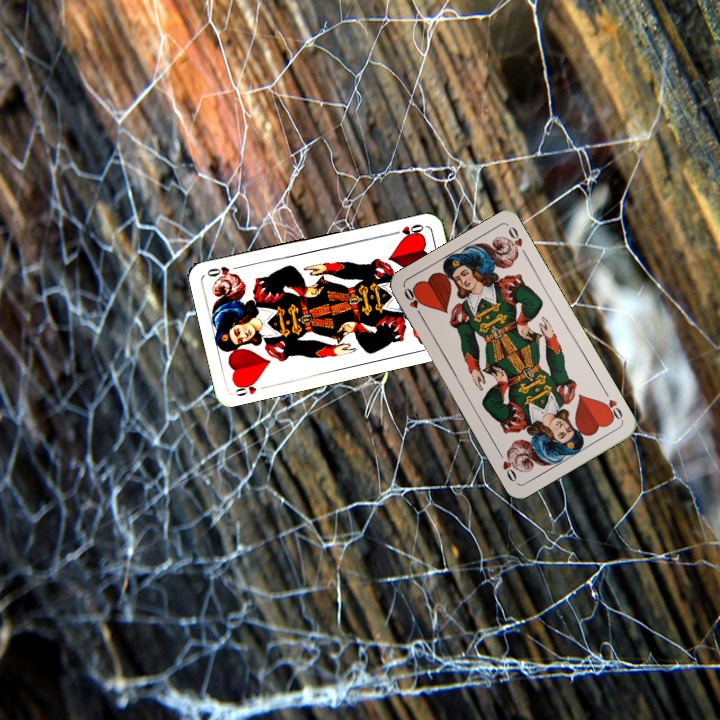HO: (598, 386, 625, 423), (400, 284, 426, 321), (231, 376, 270, 399), (387, 220, 426, 239)
